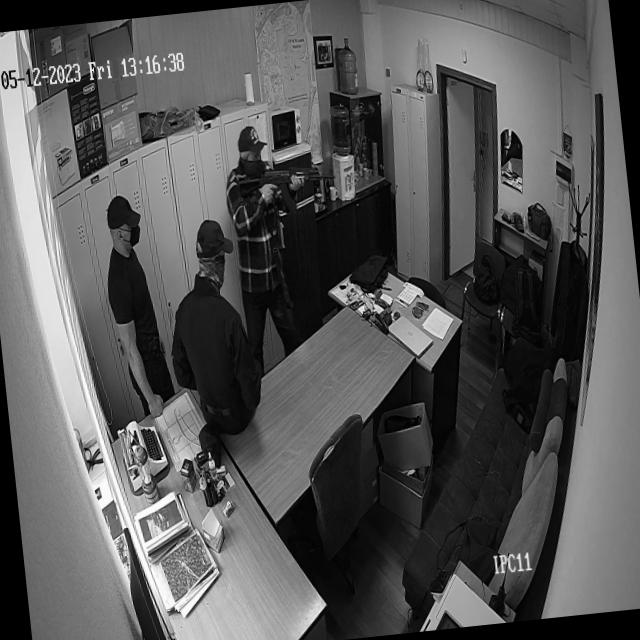gun: (234, 157, 340, 225)
person: (157, 213, 268, 446), (92, 186, 176, 416)
person with a gun: (217, 112, 349, 280)
